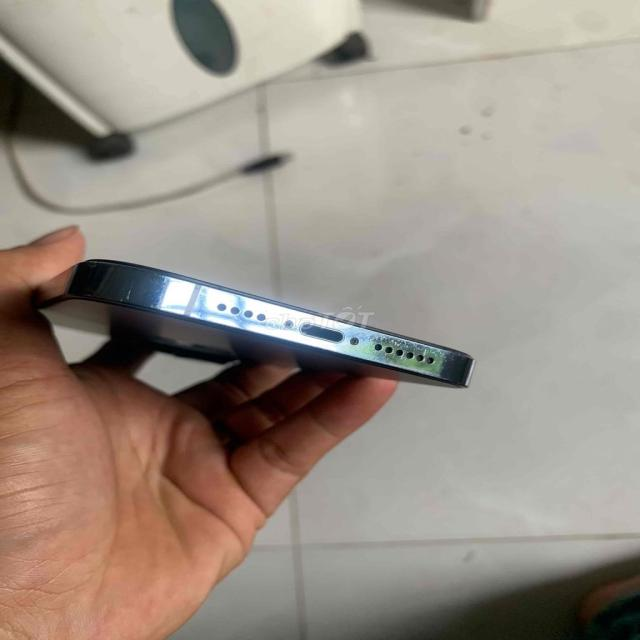scratch: (81, 256, 461, 385)
